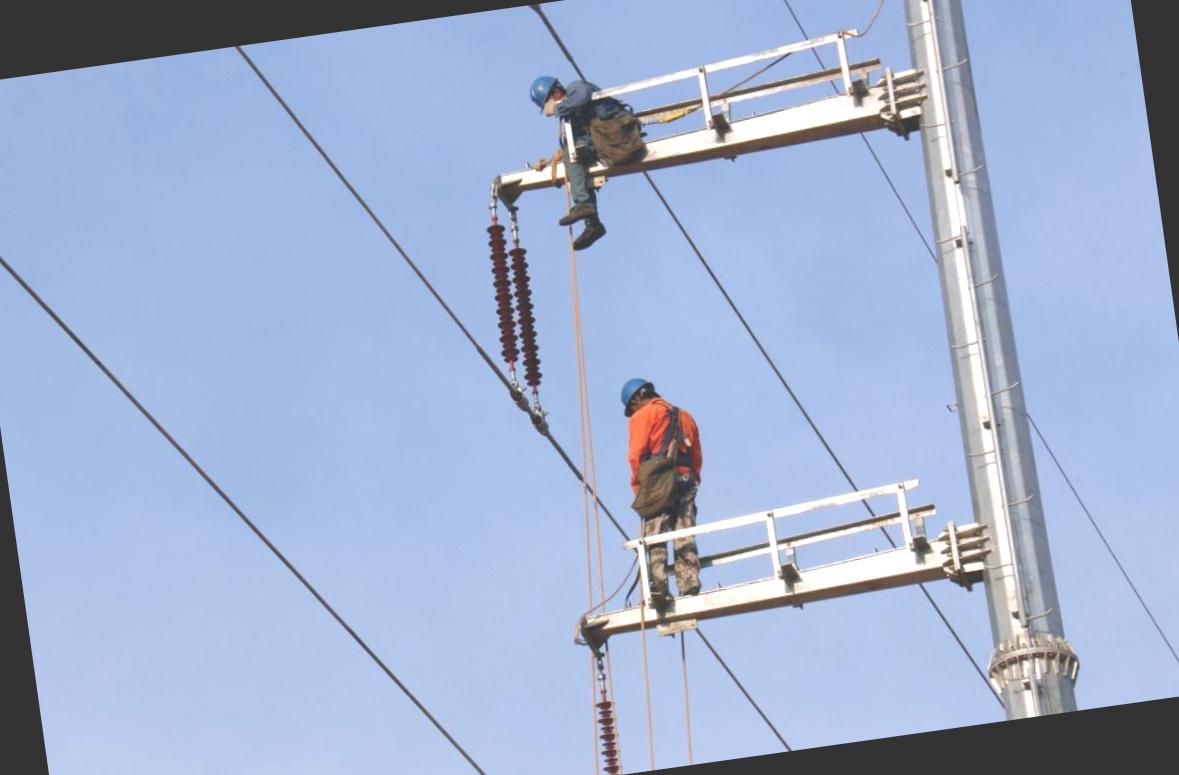person: (595, 365, 722, 616), (516, 54, 640, 264)
